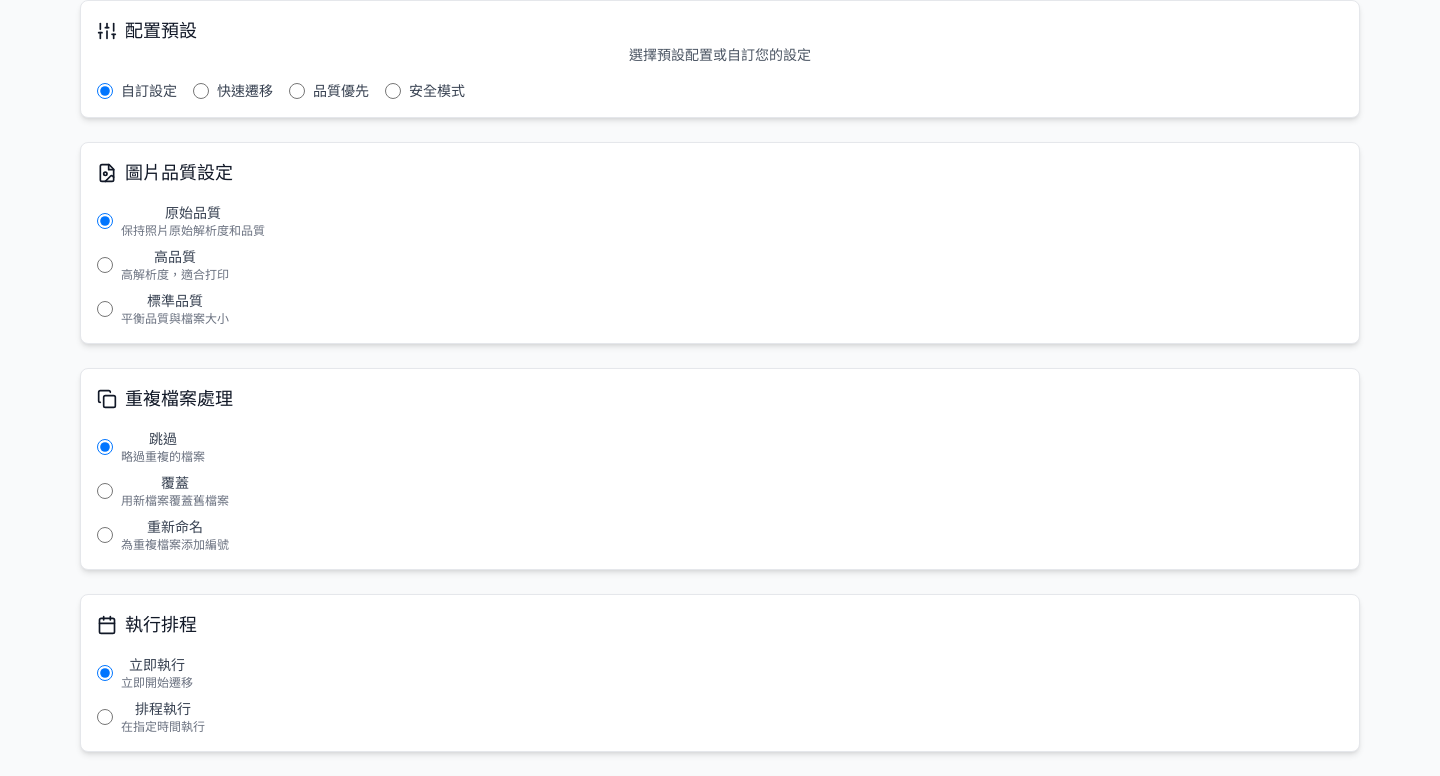
Test case: MigrationConfig - Basic Tests › should show/hide datetime input based on scheduling
The width and height of the screenshot is (1440, 776).
Click the radio button showing "scheduled" at (105, 717), box [97, 709, 113, 725]
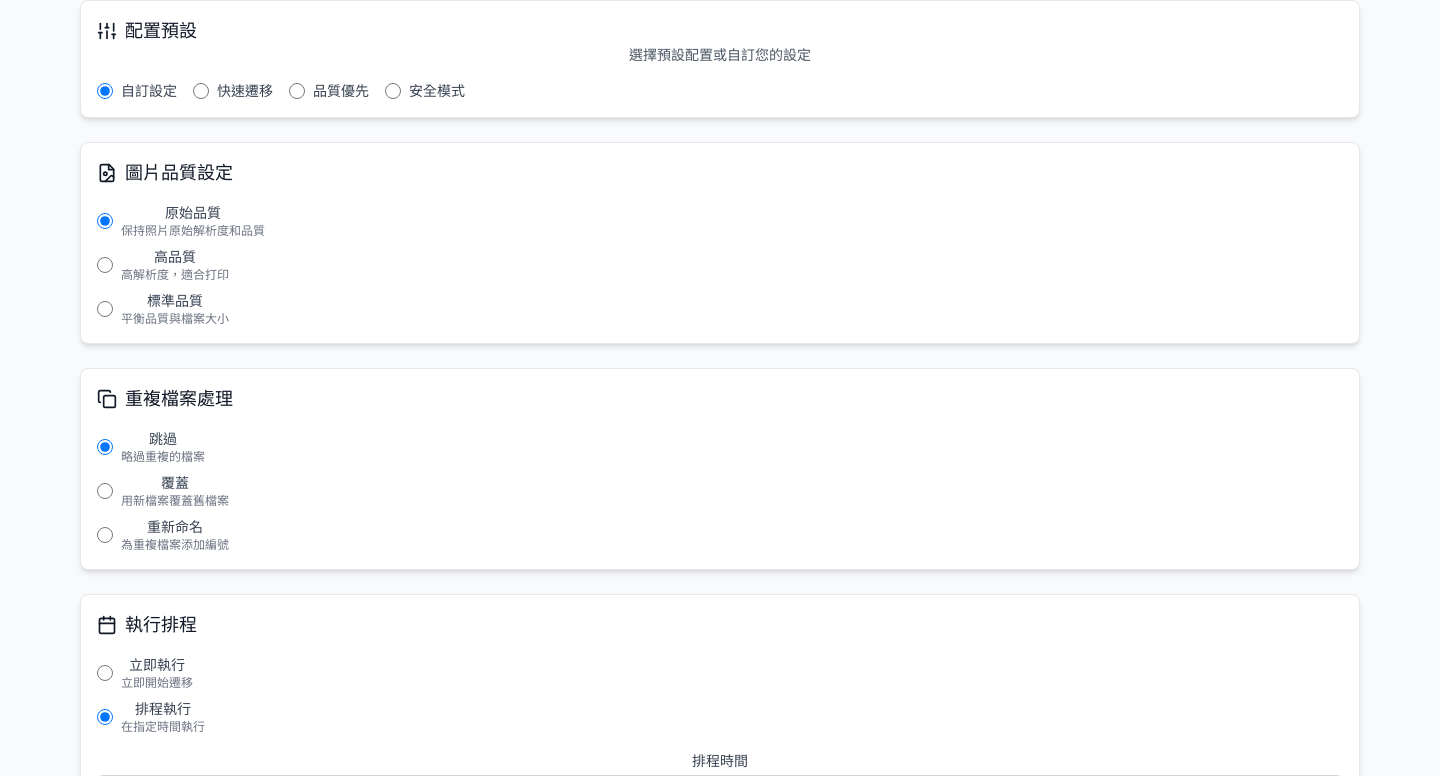
Click the radio button showing "immediate" at (105, 673), box [97, 665, 113, 681]
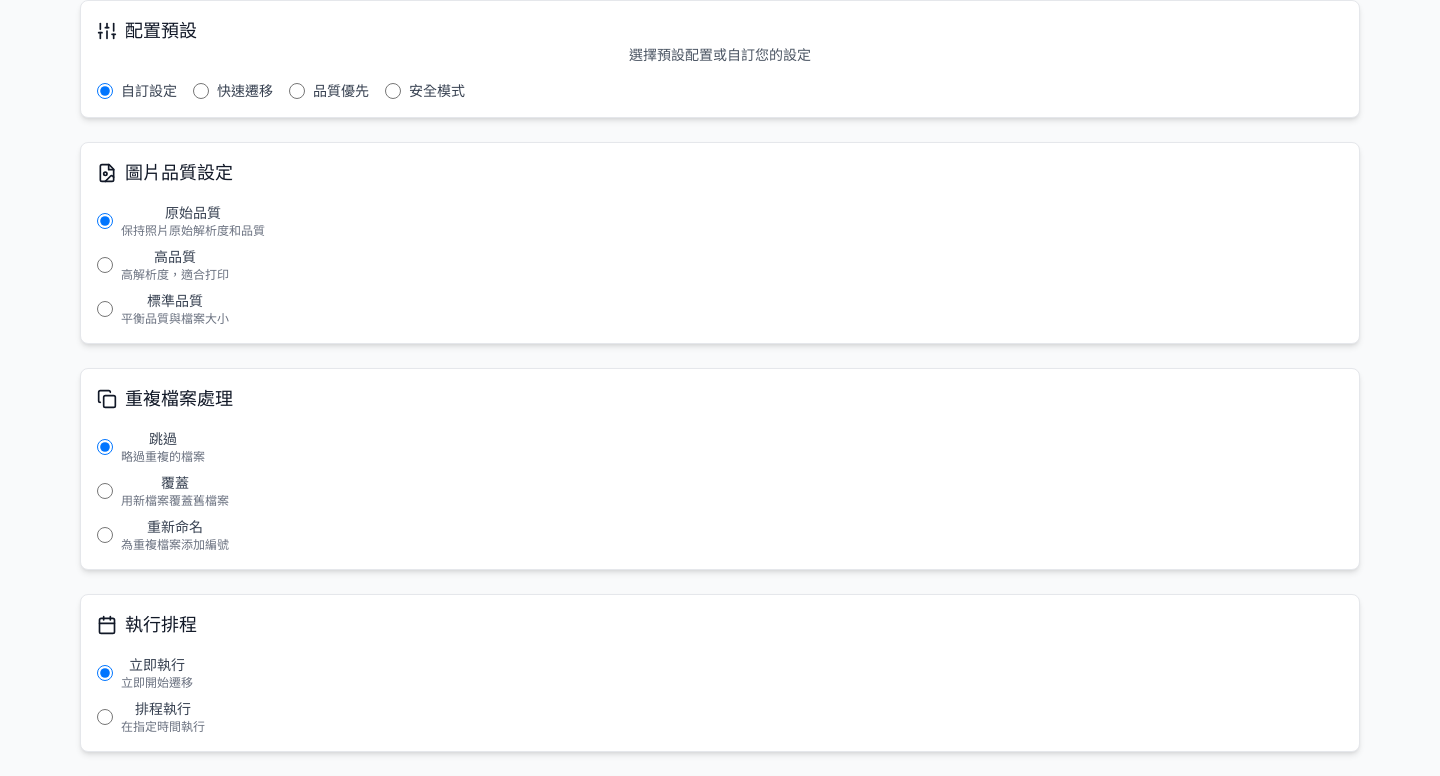
Expected: the label labelled "排程時間" is gone
